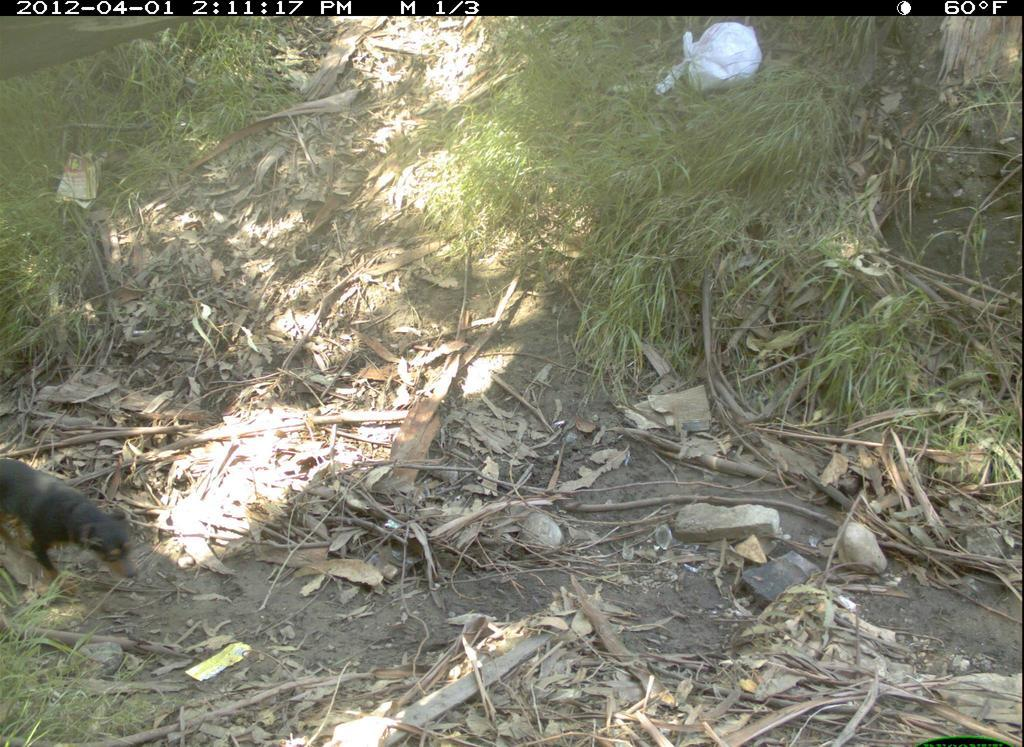dog: (2, 450, 143, 611)
